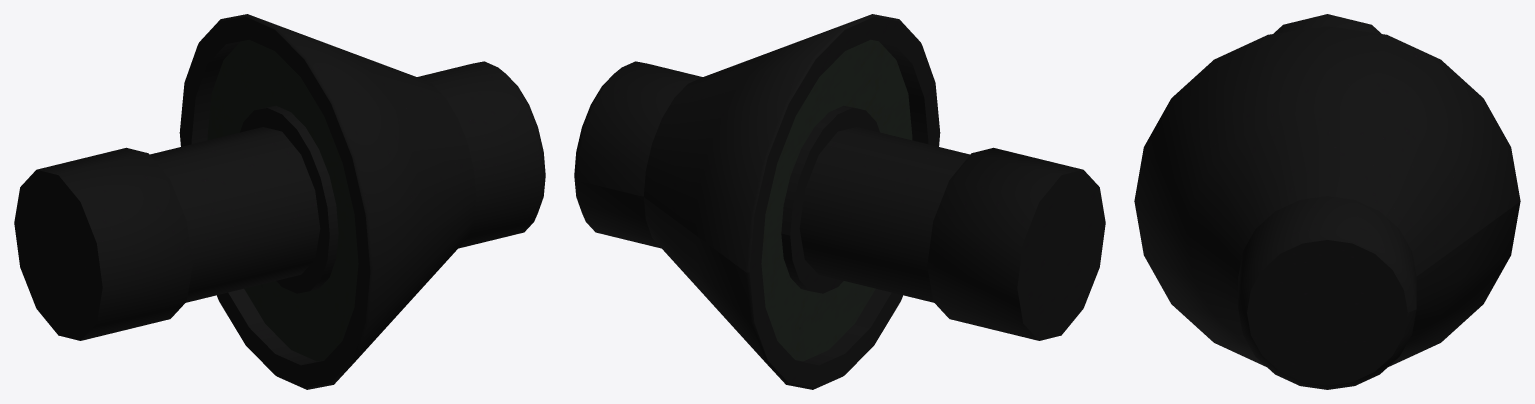
File: cP_GroundLight02.dae
3 renders of one model, left to right at view 1: azimuth 30°, elevation 25°; view 2: azimuth 150°, elevation 25°; view 3: azimuth 270°, elevation 25°, orthographic.
Parts seen in each view (by area): view 1: cP_GroundLight02.001; view 2: cP_GroundLight02.001; view 3: cP_GroundLight02.001.
Part boxes in pixels (left/top/right/bottom): cP_GroundLight02.001: left=14, top=14, right=545, bottom=389; cP_GroundLight02.001: left=574, top=14, right=1105, bottom=389; cP_GroundLight02.001: left=1134, top=14, right=1520, bottom=389.
Size of the model in its own units: 0.1326 by 0.0991 by 0.0991.
